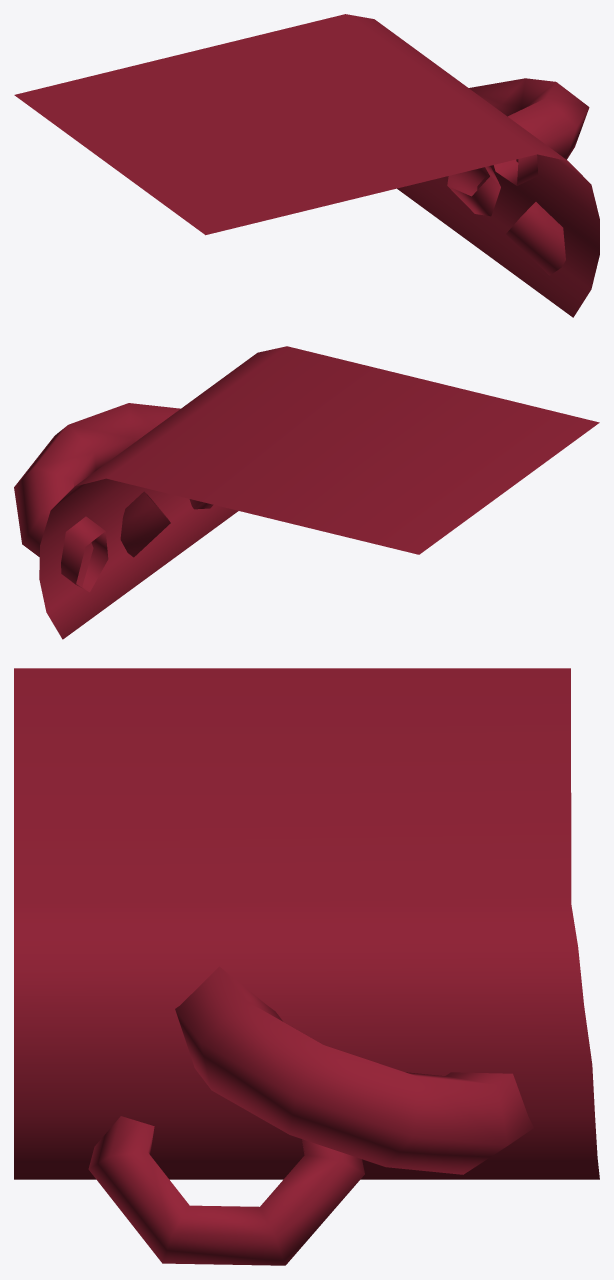
Rendered from Surface_SideUpInner.fbx.
The picture shows the model from 3 angles, top to bottom: view 1: azimuth 30°, elevation 25°; view 2: azimuth 150°, elevation 25°; view 3: azimuth 270°, elevation 25°; orthographic projection. The views are drawn at different scales.
Parts seen in each view (by area): view 1: Surface_SideUpInner; view 2: Surface_SideUpInner; view 3: Surface_SideUpInner.
Part boxes in pixels (box(x1,y1,x2,y2)): Surface_SideUpInner: box(14, 14, 599, 317); Surface_SideUpInner: box(14, 346, 599, 639); Surface_SideUpInner: box(14, 668, 599, 1265).
Bounding box in the file's own units: 2613 × 1031 × 1886.
